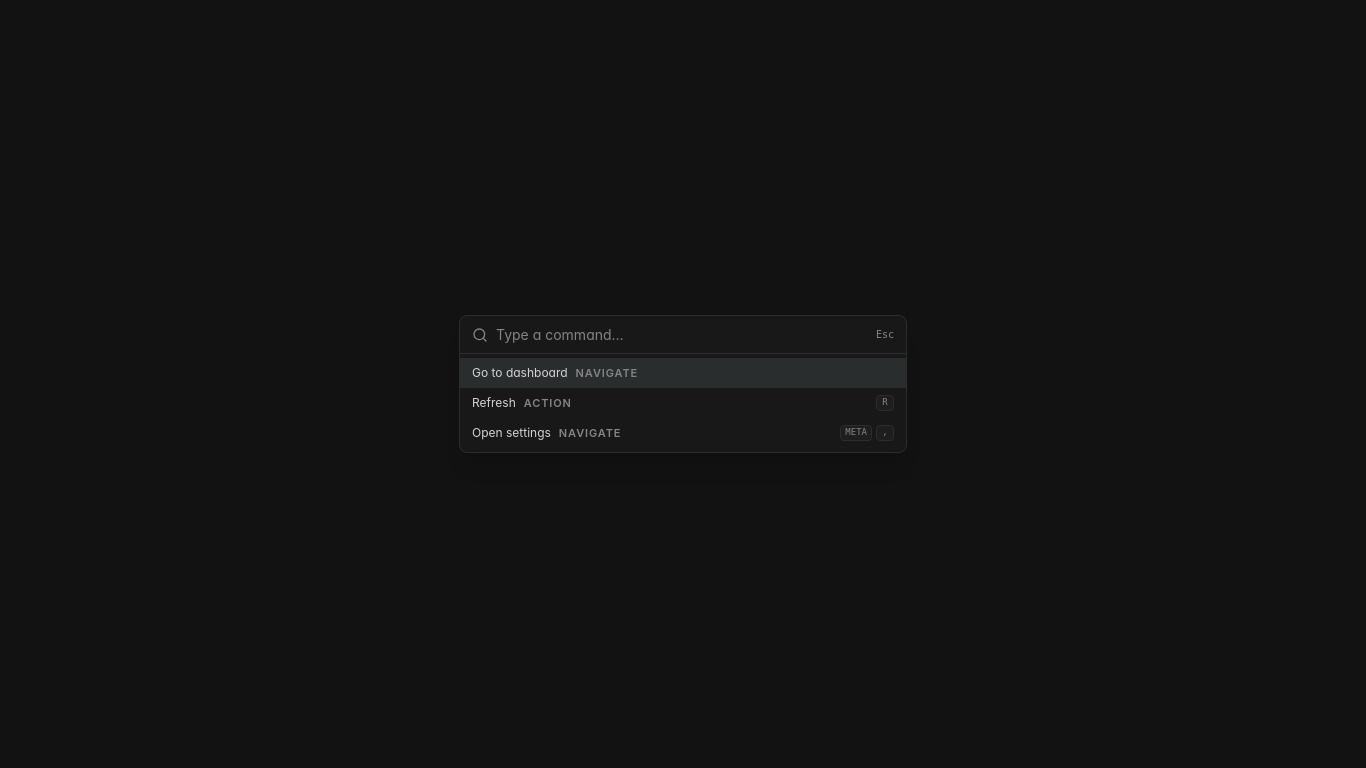
it: CommandPalette (v0.77b — full coverage) › filters commands by query
Type "dashboard" into the field with test id "palette-input" at [682, 334], box [496,324,868,345]
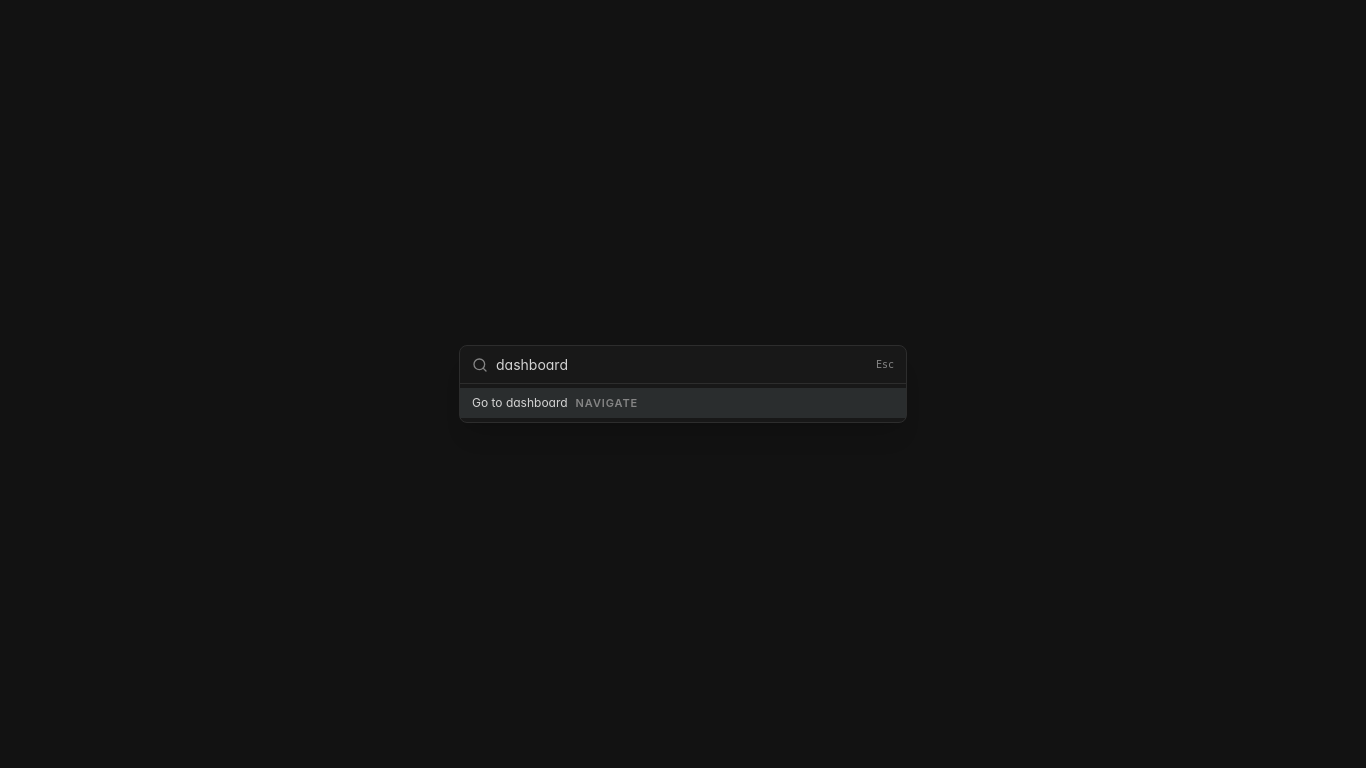
Expected: the button with test id "palette-item-cmd1" is shown, [460,388,906,418]
Expected: the button with test id "palette-item-cmd2" is gone
